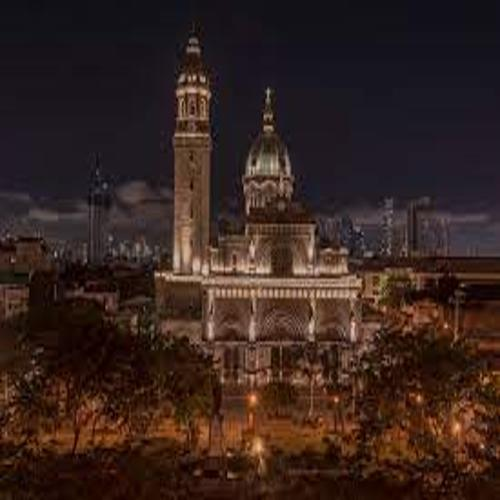Manila Cathedral Church: (132, 8, 396, 394)
